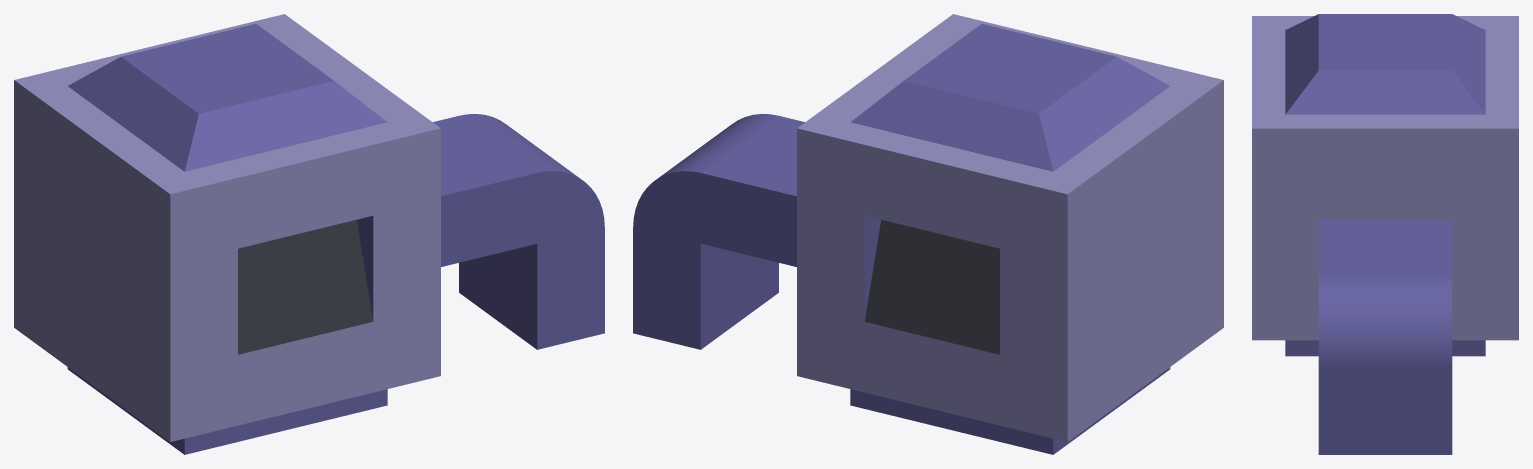
Rendered from detail_ventSmall.fbx.
The picture shows the model from 3 angles, left to right: view 1: azimuth 30°, elevation 25°; view 2: azimuth 150°, elevation 25°; view 3: azimuth 270°, elevation 25°; orthographic projection. The views are drawn at different scales.
Visible parts, largest first — view 1: detail_ventSmall; view 2: detail_ventSmall; view 3: detail_ventSmall.
Boxes of the visible parts, x1,y1,x2,y2 form: detail_ventSmall: (14,14,604,454); detail_ventSmall: (633,14,1223,454); detail_ventSmall: (1252,14,1518,454).
Bounding box in the file's own units: 7 × 4.5 × 4.
